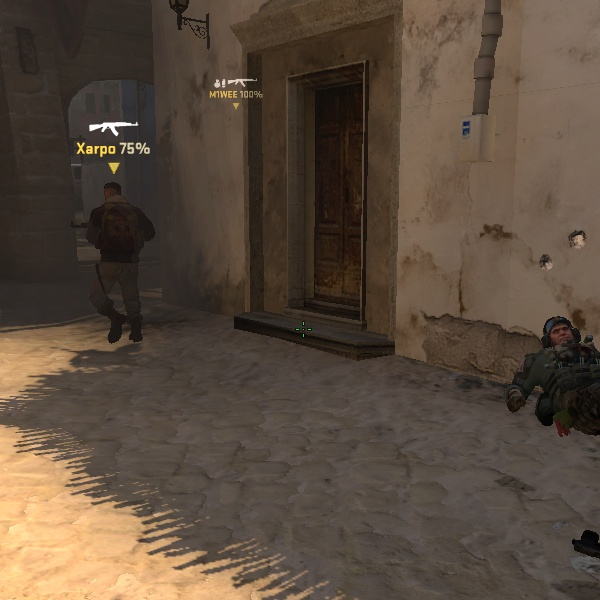ct_body: (502, 308, 598, 437)
ct_head: (535, 309, 586, 358)
t_body: (59, 174, 168, 357)
t_head: (89, 175, 135, 223)
